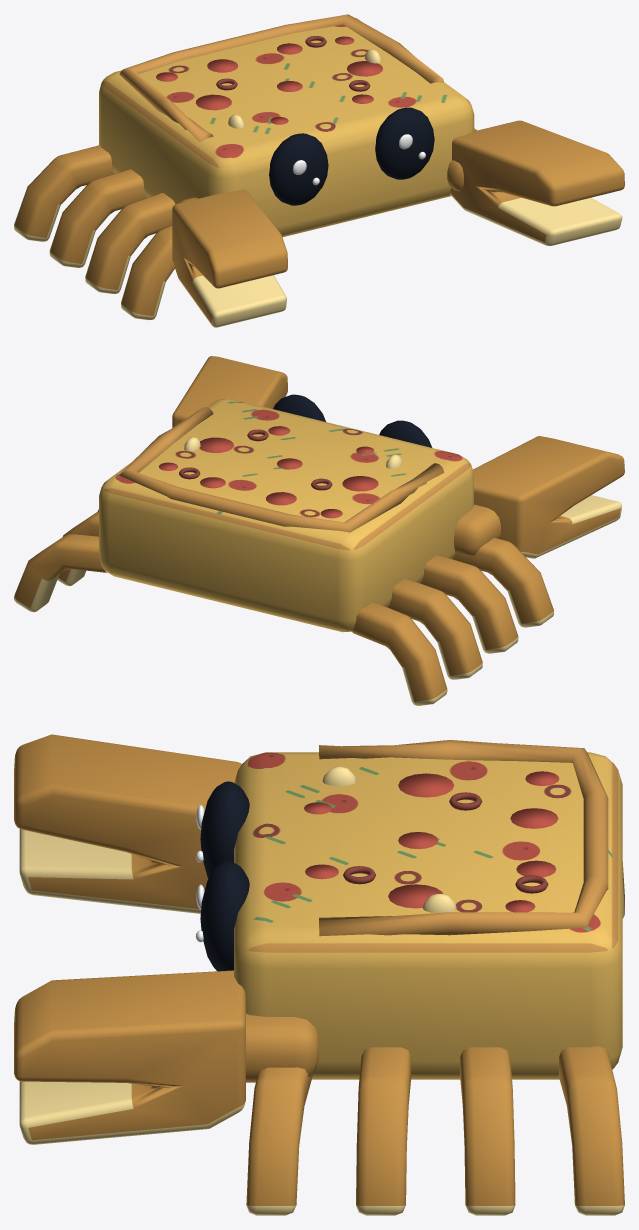
The model's file is PizzaCrab.fbx.
3 renders of one model, top to bottom at view 1: azimuth 30°, elevation 25°; view 2: azimuth 150°, elevation 25°; view 3: azimuth 270°, elevation 25°, orthographic. The views are drawn at different scales.
Parts seen in each view (by area): view 1: PizzaCrab_Body, PizzaCrab, PizzaCrab_Claw_R, PizzaCrab_Claw_L, PizzaCrab_Eye_R, PizzaCrab_Eye_L, PizzaCrab_Arm_R; view 2: PizzaCrab_Body, PizzaCrab, PizzaCrab_Claw_L, PizzaCrab_Claw_R, PizzaCrab_Arm_L, PizzaCrab_Eye_R, PizzaCrab_Eye_L; view 3: PizzaCrab_Body, PizzaCrab, PizzaCrab_Claw_R, PizzaCrab_Claw_L, PizzaCrab_Arm_R, PizzaCrab_Eye_R, PizzaCrab_Eye_L.
Part boxes in pixels (left/top/right/bottom): PizzaCrab_Body: left=99, top=14, right=474, bottom=237; PizzaCrab: left=14, top=36, right=477, bottom=320; PizzaCrab_Claw_R: left=450, top=120, right=624, bottom=245; PizzaCrab_Claw_L: left=172, top=189, right=287, bottom=327; PizzaCrab_Eye_R: left=375, top=107, right=434, bottom=179; PizzaCrab_Eye_L: left=269, top=133, right=328, bottom=205; PizzaCrab_Arm_R: left=447, top=131, right=474, bottom=191; PizzaCrab_Body: left=99, top=398, right=473, bottom=632; PizzaCrab: left=14, top=426, right=553, bottom=705; PizzaCrab_Claw_L: left=473, top=436, right=624, bottom=558; PizzaCrab_Claw_R: left=172, top=356, right=287, bottom=427; PizzaCrab_Arm_L: left=454, top=504, right=500, bottom=555; PizzaCrab_Eye_R: left=273, top=394, right=325, bottom=421; PizzaCrab_Eye_L: left=379, top=420, right=432, bottom=447; PizzaCrab_Body: left=234, top=740, right=622, bottom=1079; PizzaCrab: left=246, top=771, right=624, bottom=1215; PizzaCrab_Claw_R: left=14, top=970, right=245, bottom=1144; PizzaCrab_Claw_L: left=14, top=734, right=241, bottom=913; PizzaCrab_Arm_R: left=246, top=1013, right=318, bottom=1082; PizzaCrab_Eye_R: left=200, top=861, right=249, bottom=971; PizzaCrab_Eye_L: left=200, top=781, right=249, bottom=878.
Bounding box in the file's own units: 374 × 134 × 305.
Materials: 2 (2 with a texture image).
